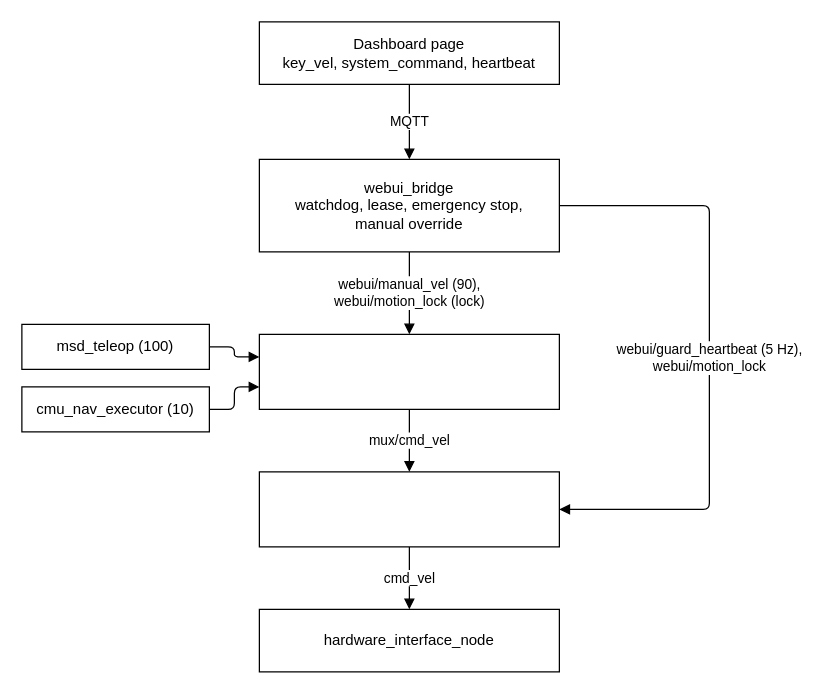
This 824x694 diagram has some shape labels left out. Each missing label, with the centre of its shape:
"motion_guard 20 Hz, always publishes, zero unless safe" goes at (408,509).
"twist_mux (priority 255 lock, 100, 90, 10)" goes at (408,371).
